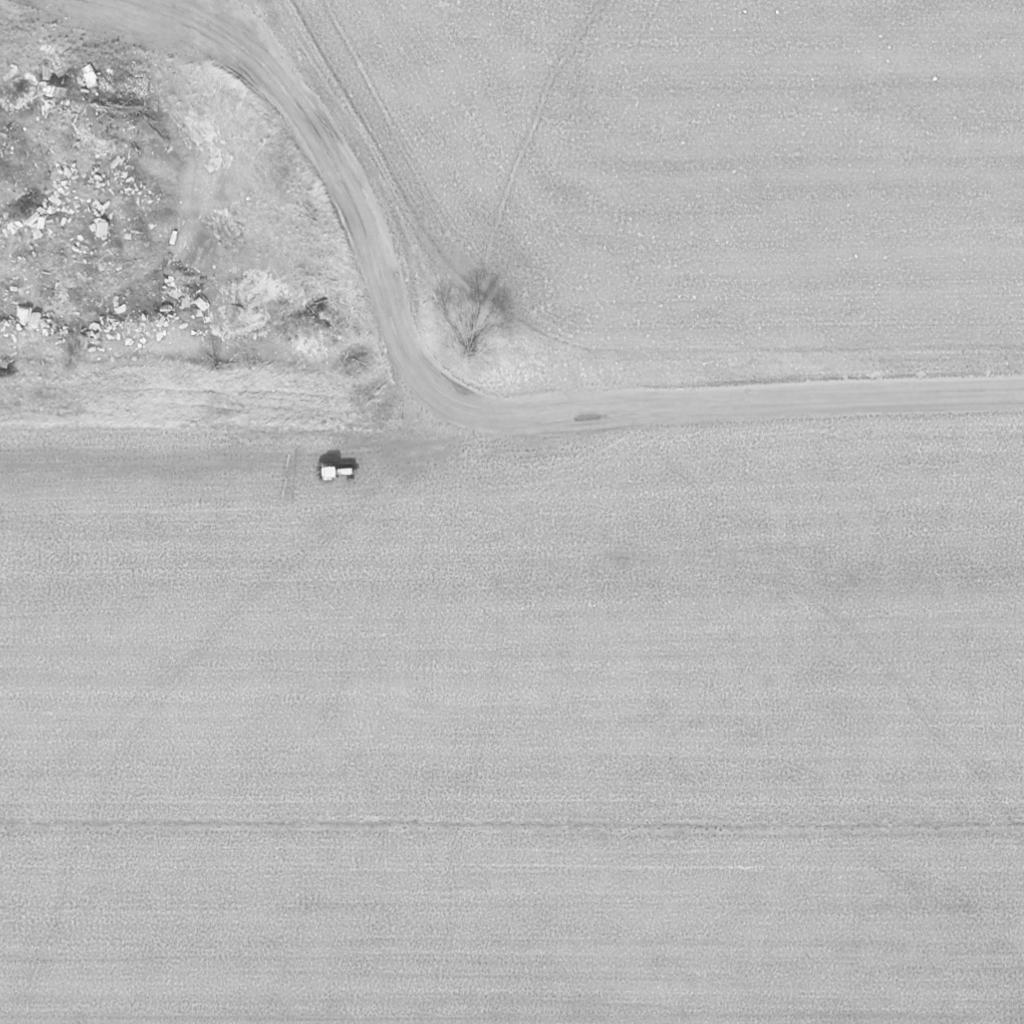vehicle: (317, 459, 355, 485)
